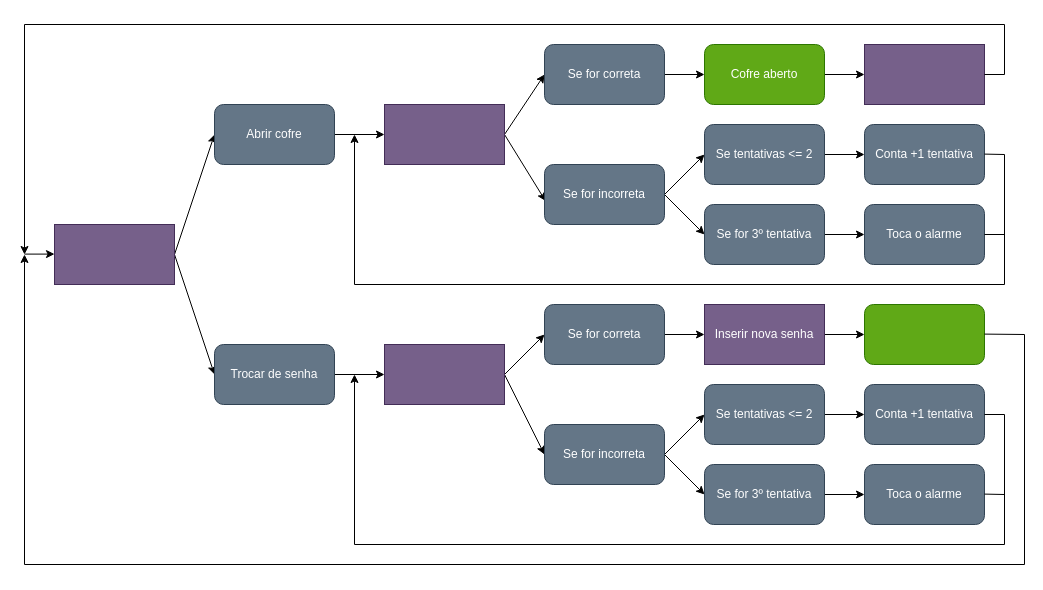
Image size: 1043x590. Some labels were removed from this diagram. The shapes that lost their labels are listed below. From the top down, each one's centre as x and y in pixels, then its label:
At (x=924, y=74): "Aperta enter para trancar o cofre".
At (x=444, y=134): "Inserir senha".
At (x=114, y=254): "Escolha da operação".
At (x=924, y=334): "Mudança completa".
At (x=444, y=374): "Verifica senha atual".
